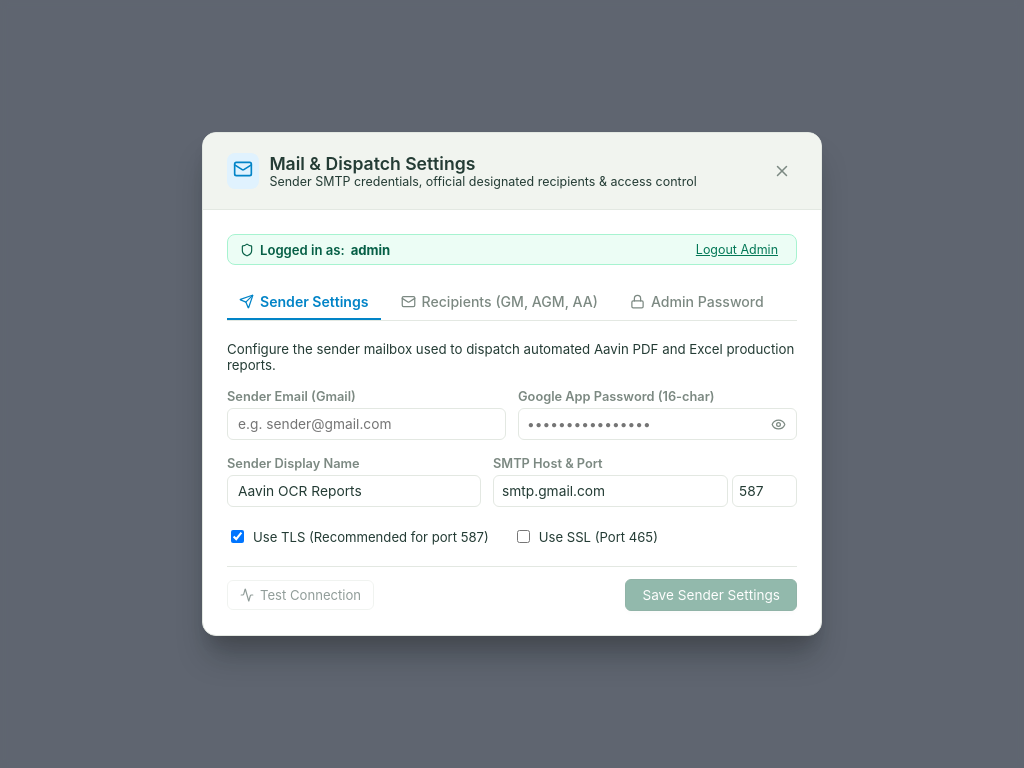
Test: MailSettingsModal › allows managing GM, AGM, and AA role recipients
This screenshot has width=1024, height=768.
Click the button with test id "tab-recipient-settings". click: (499, 302)
box: [388,285,610,320]
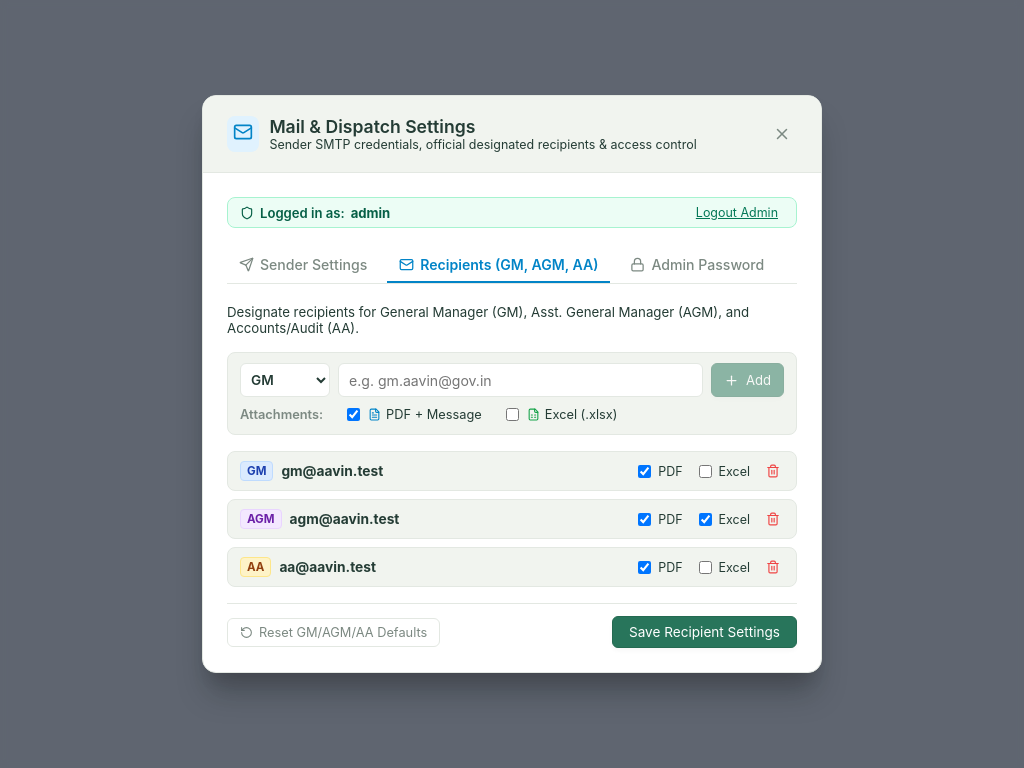
Check: the text "gm@aavin.test" is shown, box [281,463,383,479]
Check: the text "agm@aavin.test" is shown, box [290,511,399,527]
Check: the text "aa@aavin.test" is shown, box [279,559,376,575]
# Toggle options for GM
Click the checkbox with test id "toggle-excel-0". click: (705, 471)
box: [699,464,712,478]
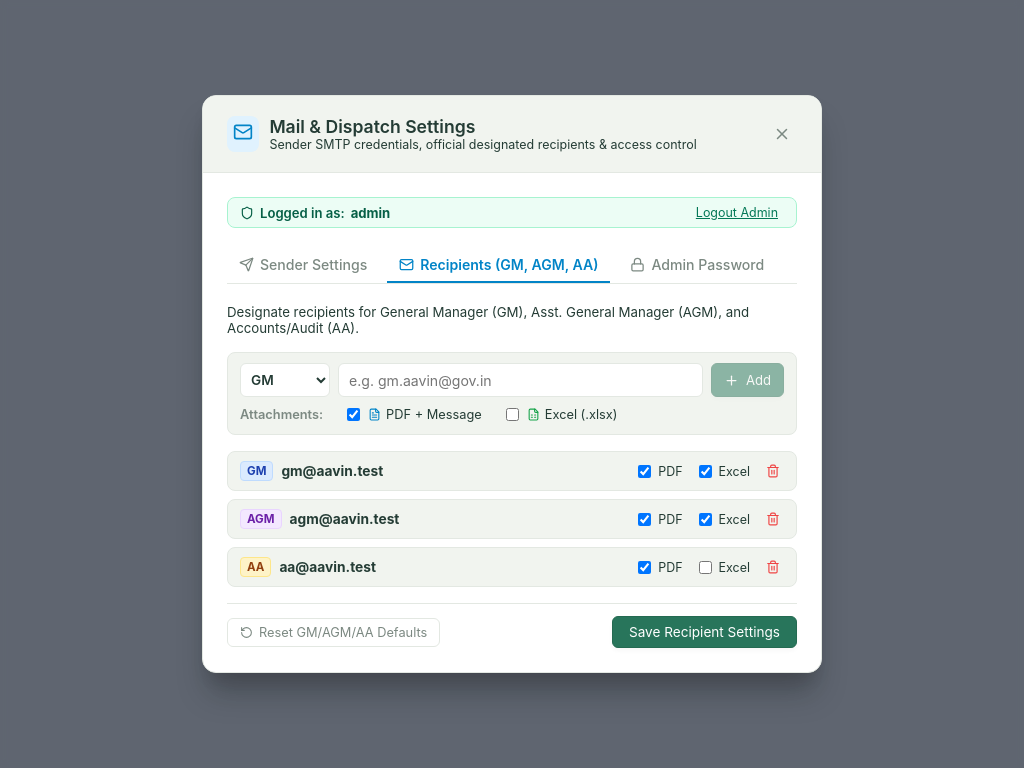
# Save recipients
Click the button with test id "save-recipients-btn". click: (704, 632)
box: [612,616,797,648]
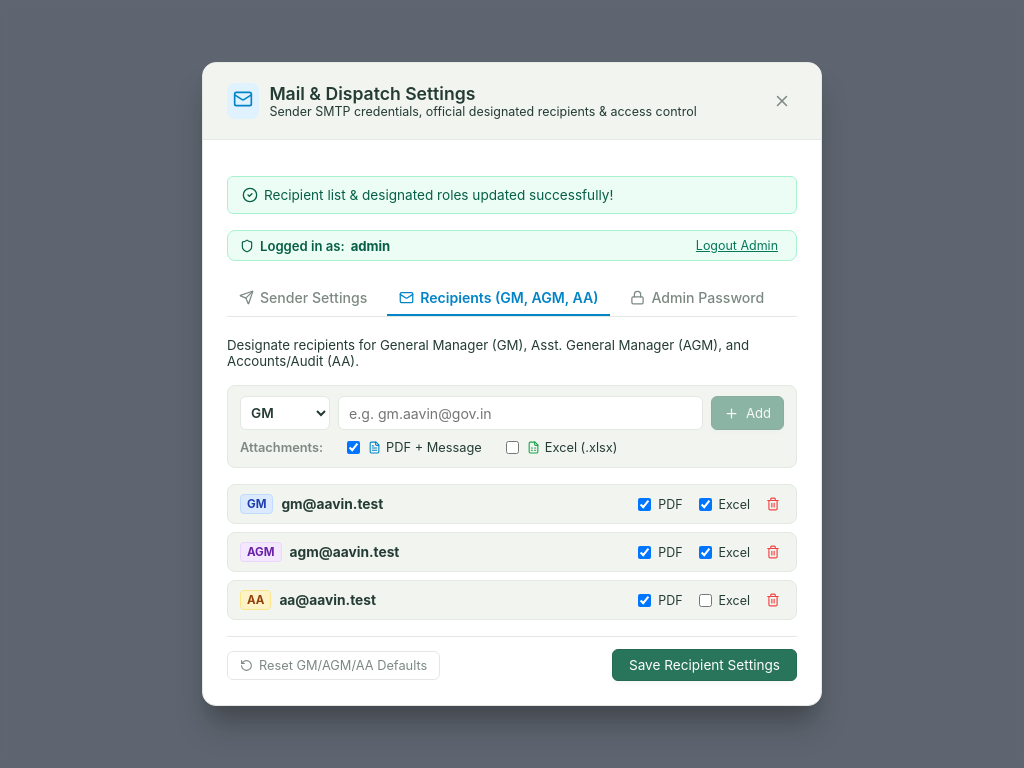
Check: the text "Recipient list & designated roles updated successfully!" is shown, box [264,187,613,203]
